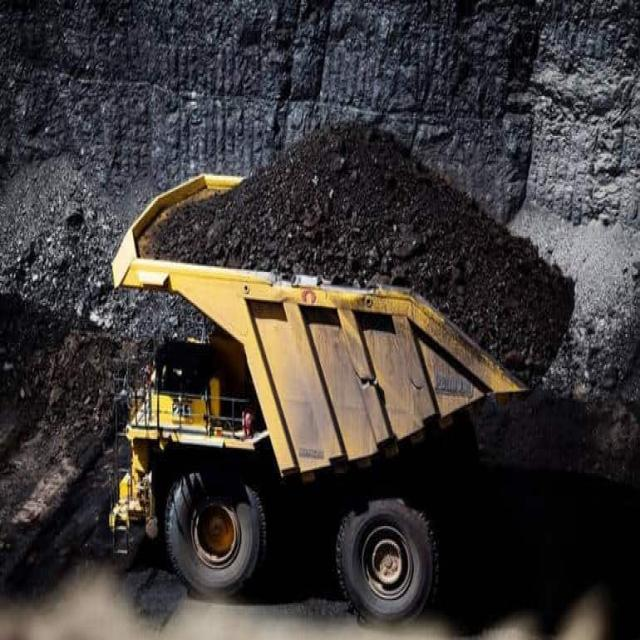dump_truck: (98, 129, 581, 622)
